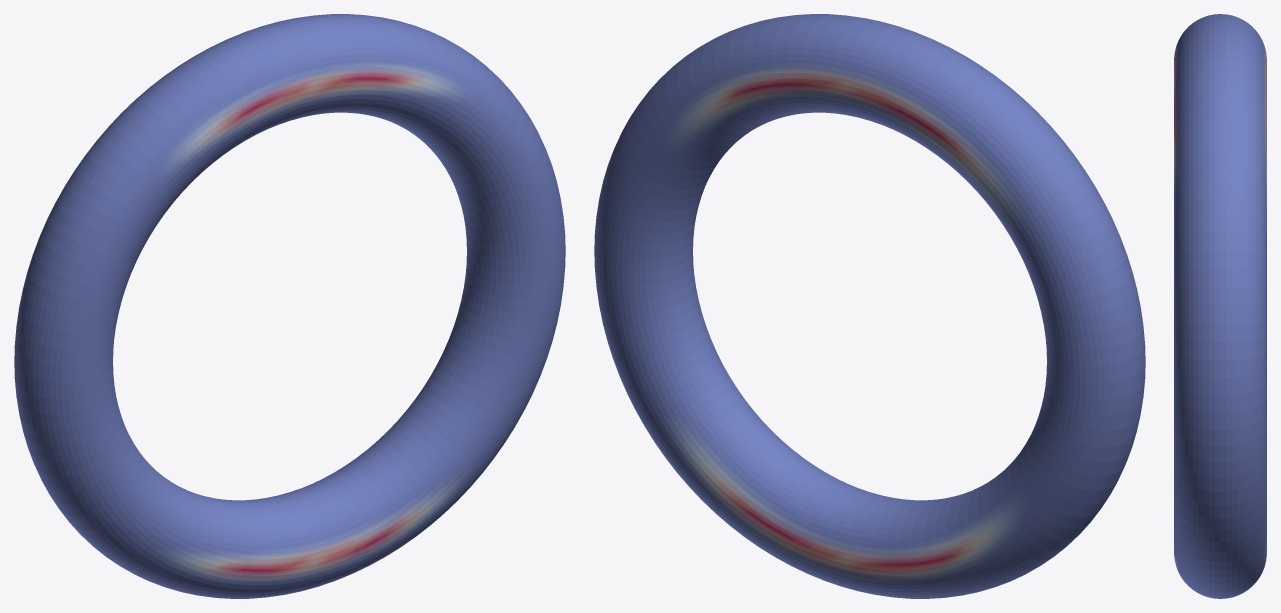
3 renders of one model, left to right at view 1: azimuth 30°, elevation 25°; view 2: azimuth 150°, elevation 25°; view 3: azimuth 270°, elevation 25°, orthographic. The views are drawn at different scales.
Parts seen in each view (by area): view 1: world; view 2: world; view 3: world.
Boxes of the visible parts, x1,y1,x2,y2 form: world: (14, 14, 565, 598); world: (594, 14, 1145, 598); world: (1174, 14, 1266, 598).
Bounding box in the file's own units: 14.27 × 14.27 × 2.26.
